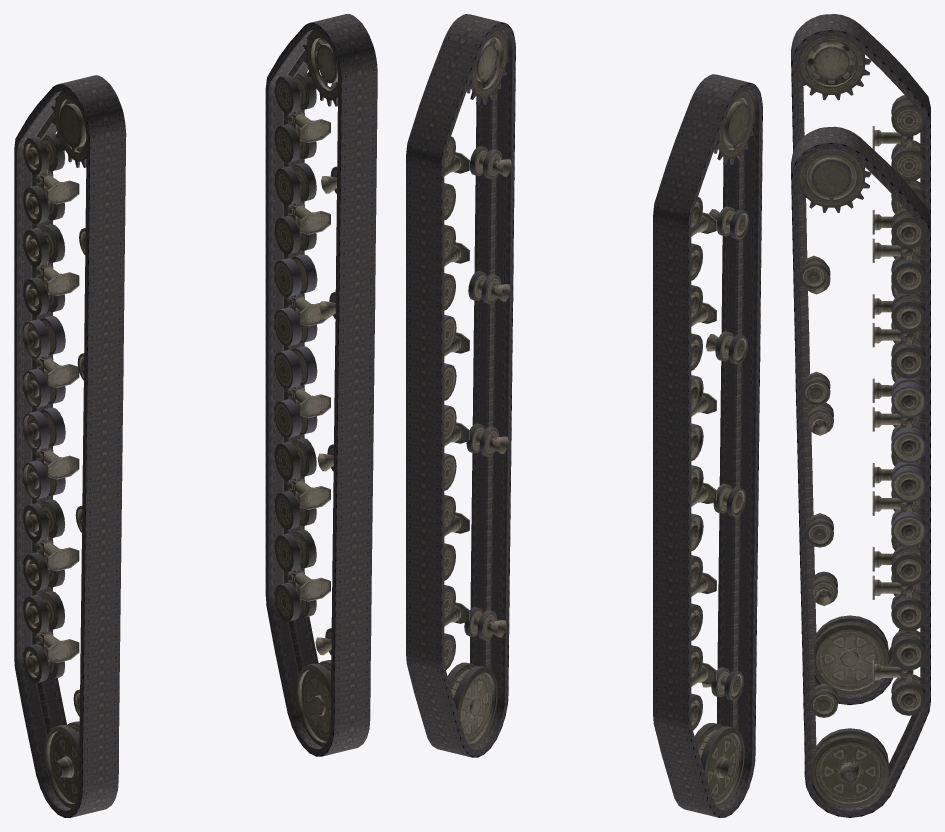
Rendered from Chassis.glb.
3 renders of one model, left to right at view 1: azimuth 30°, elevation 25°; view 2: azimuth 150°, elevation 25°; view 3: azimuth 270°, elevation 25°, orthographic. The views are drawn at different scales.
Parts seen in each view (by area): view 1: set_0_group_0, set_1_group_0, set_5_group_0, set_3_group_0, set_4_group_0, set_2_group_0; view 2: set_1_group_0, set_0_group_0, set_5_group_0, set_3_group_0; view 3: set_5_group_0, set_0_group_0, set_3_group_0, set_1_group_0, set_4_group_0, set_2_group_0.
Part boxes in pixels (box(x1,y1,x2,y2)): set_0_group_0: box(265, 14, 377, 756); set_1_group_0: box(14, 75, 126, 817); set_5_group_0: box(274, 30, 338, 747); set_3_group_0: box(23, 91, 86, 808); set_4_group_0: box(287, 291, 311, 603); set_2_group_0: box(36, 353, 59, 664); set_1_group_0: box(653, 74, 762, 817); set_0_group_0: box(406, 14, 515, 757); set_5_group_0: box(444, 29, 511, 748); set_3_group_0: box(691, 90, 754, 808); set_5_group_0: box(798, 149, 925, 807); set_0_group_0: box(791, 126, 930, 817); set_3_group_0: box(798, 36, 925, 695); set_1_group_0: box(791, 14, 930, 704); set_4_group_0: box(881, 413, 913, 681); set_2_group_0: box(881, 301, 892, 564).
Bounding box in the file's own units: 3.05 × 7.45 × 1.4.
6 materials, 6 textured.
